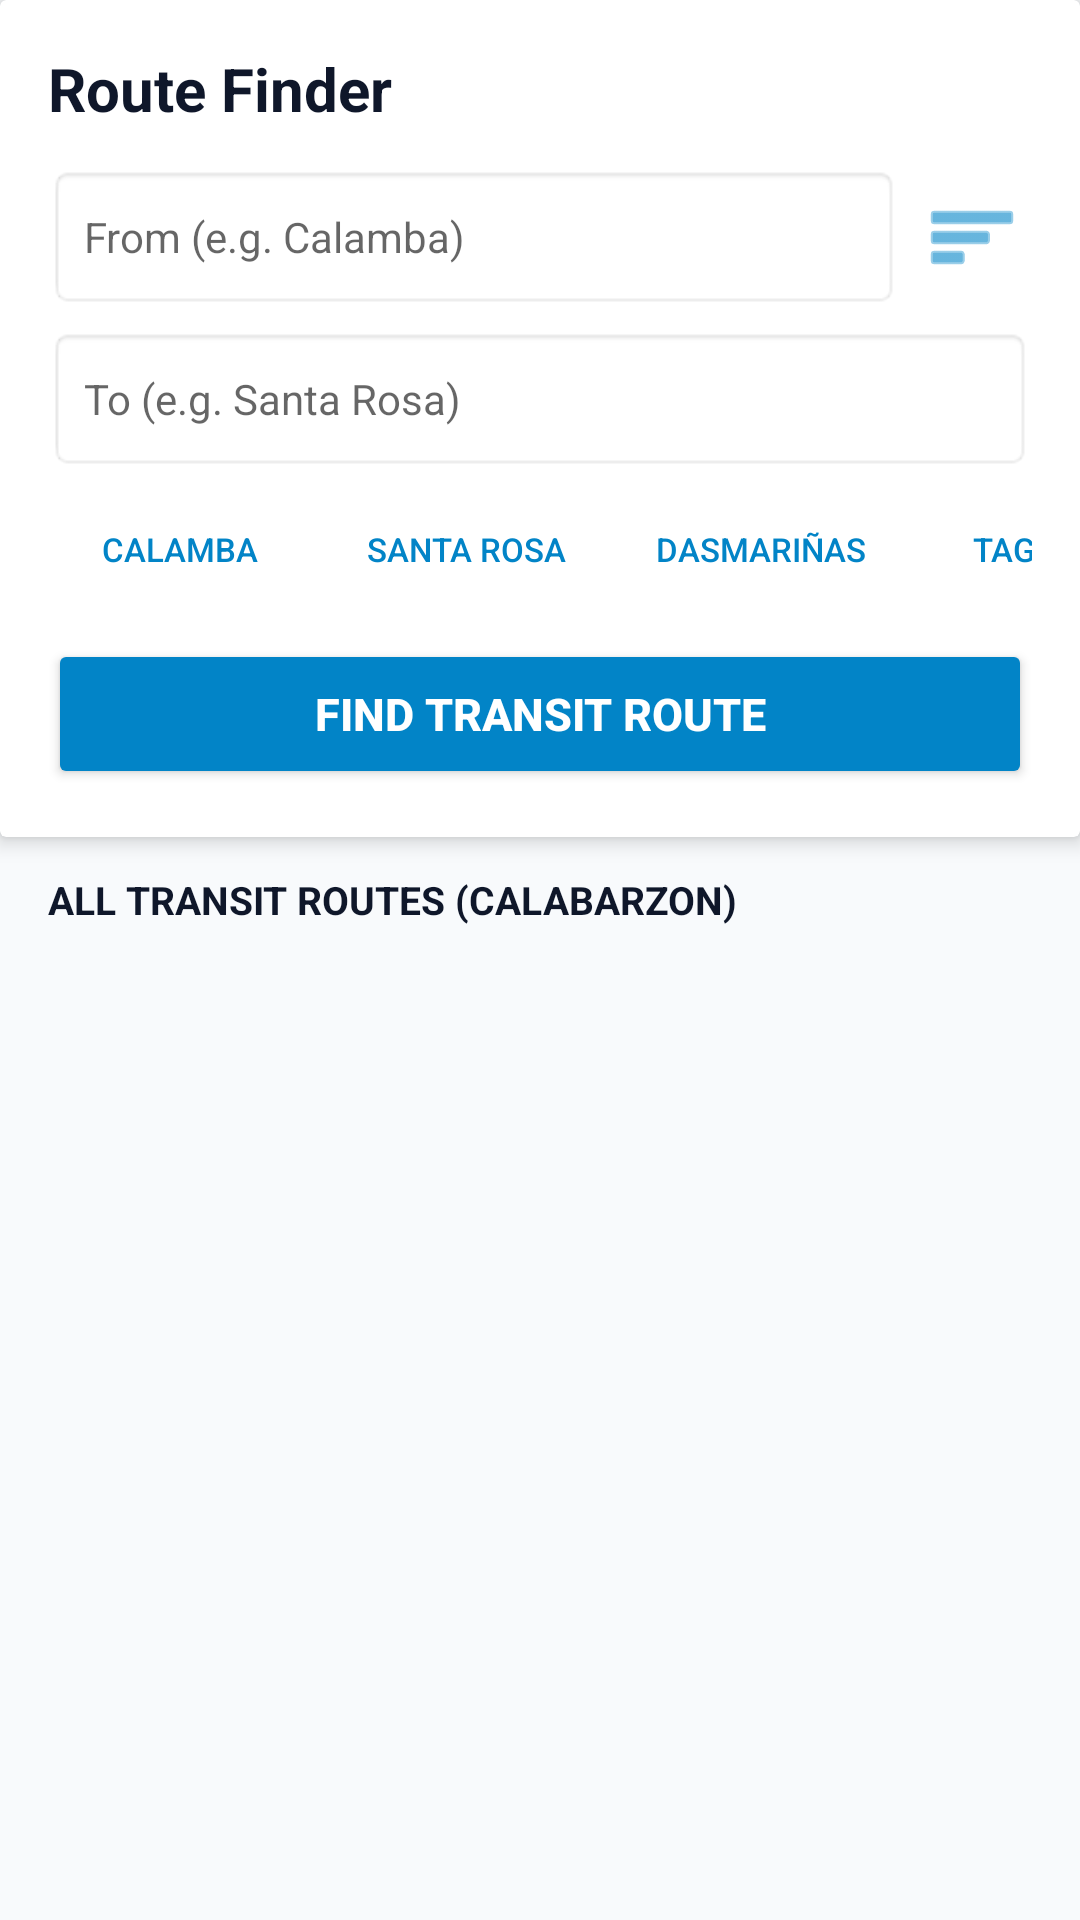

Icons on this 1080x1920 Android screen, each with the point to tap as (x=x, y=y):
sort by size: (x=972, y=237)
